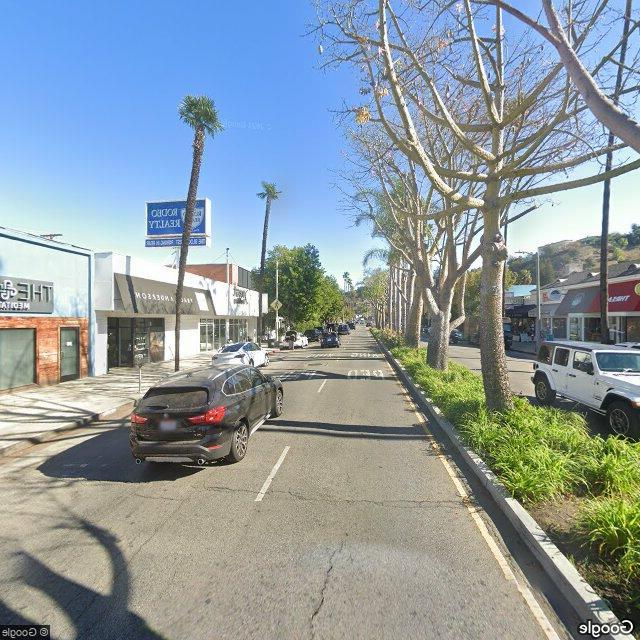crack: (190, 478, 488, 516), (307, 533, 344, 639)
